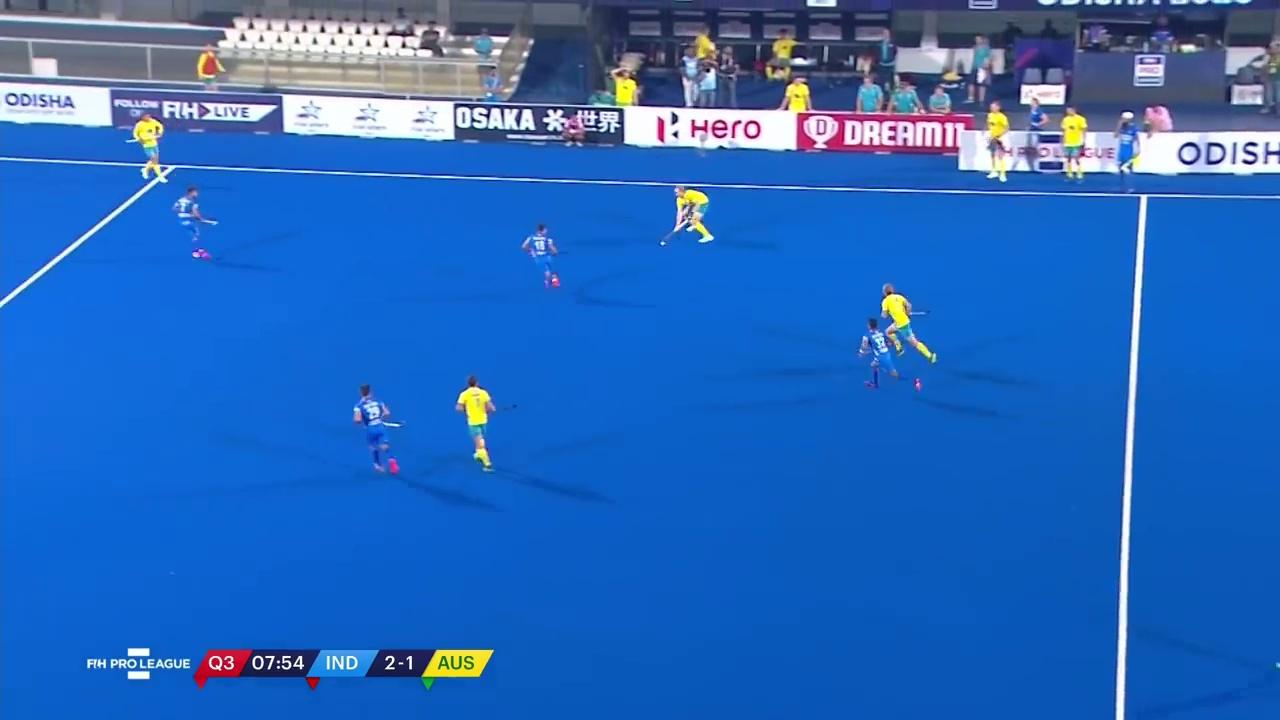ball: (655, 235, 669, 250)
